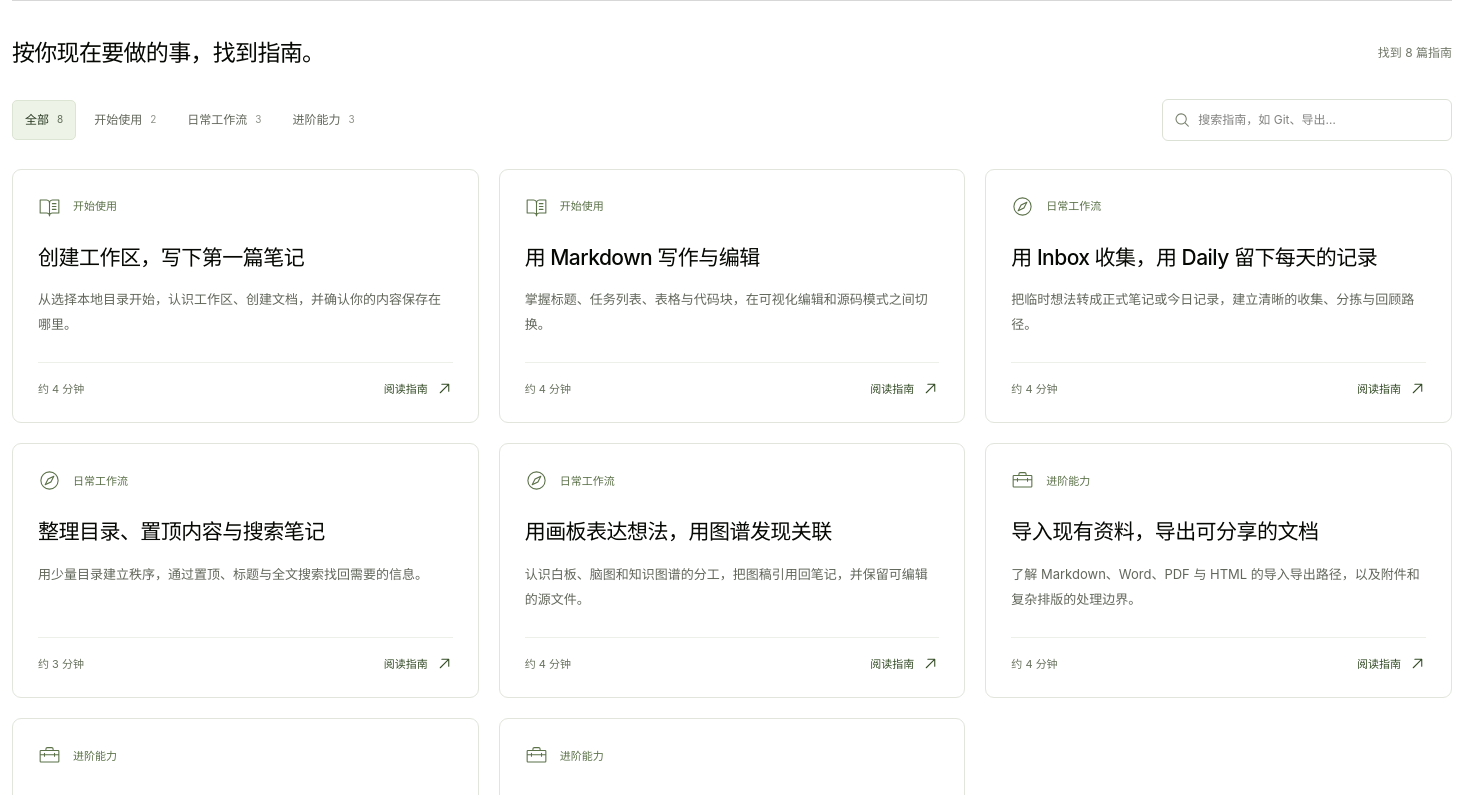
GuideLibrary › filters, reports an empty result and restores the full library
Click the button "进阶能力 3": coordinates (324, 120) 280,100 -> 368,140
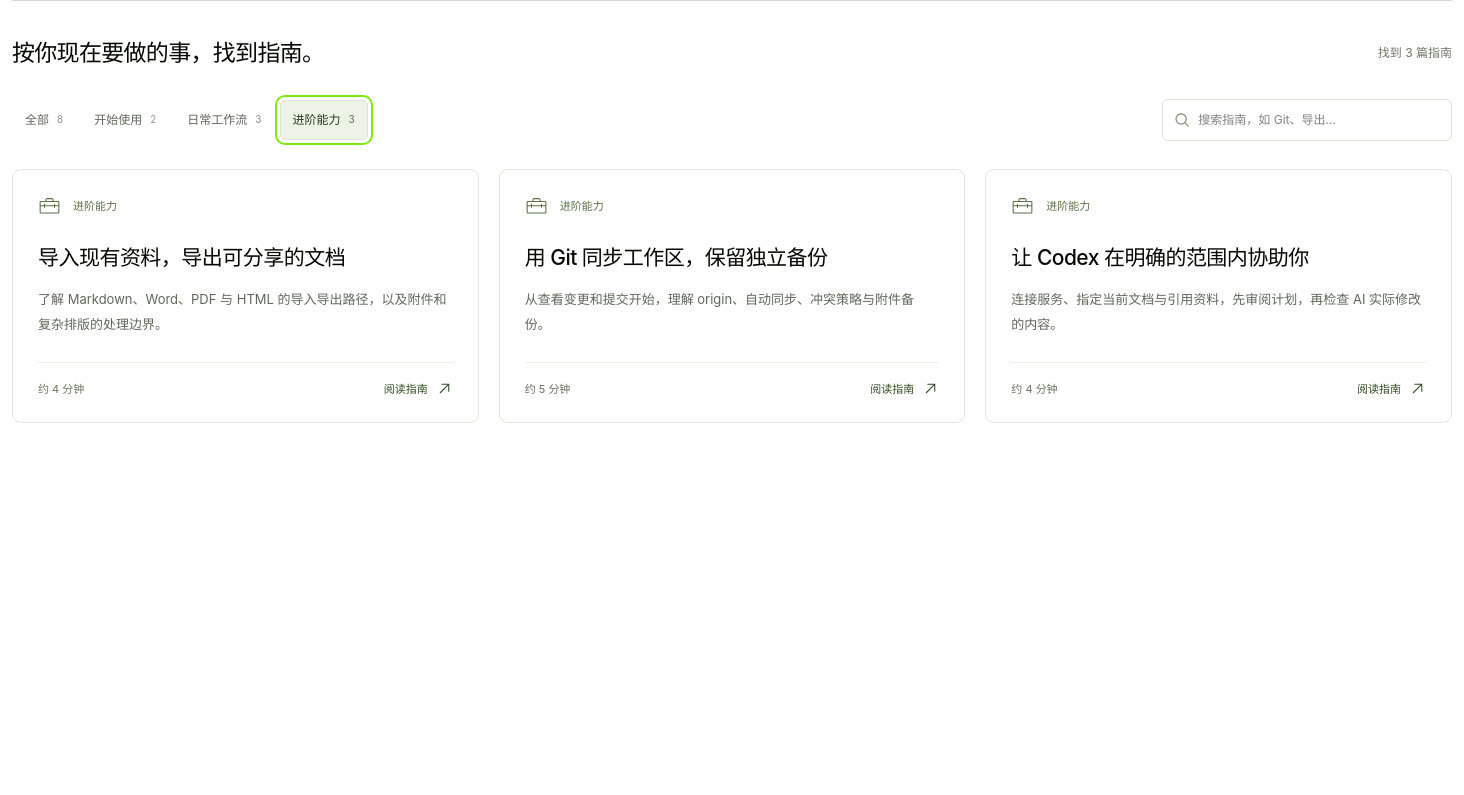
Expected: the message reads "找到 3 篇指南", 1378,44 -> 1452,62
In the search field named "搜索使用指南": coordinates (1319, 120) 1198,108 -> 1440,130, type "Git"
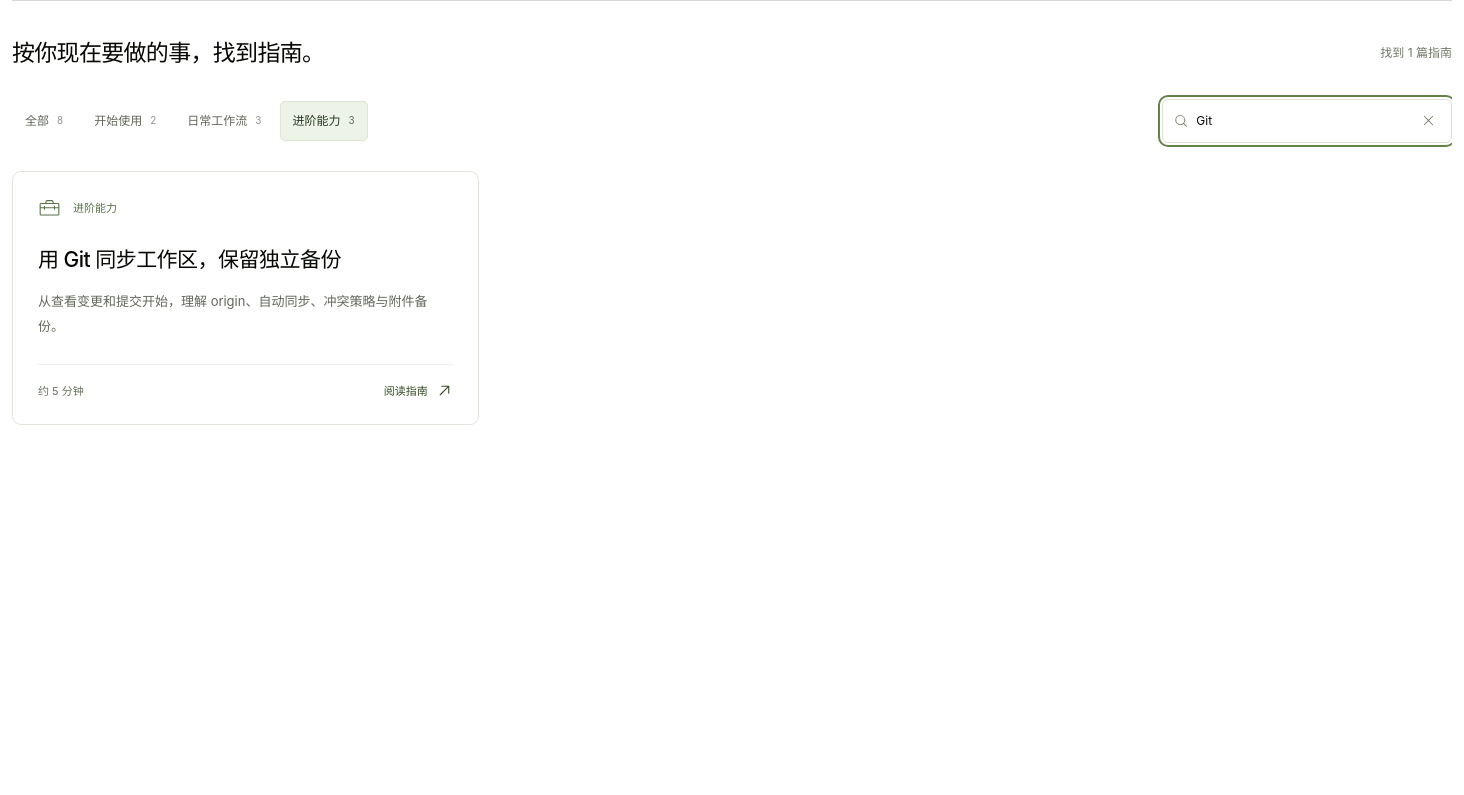
Expected: the link "用 Git 同步工作区，保留独立备份" is shown, 13,172 -> 478,424
Result: the message reads "找到 1 篇指南" at 1380,44 -> 1452,62
Clear the search field named "搜索使用指南": coordinates (1302, 120) 1196,110 -> 1408,132
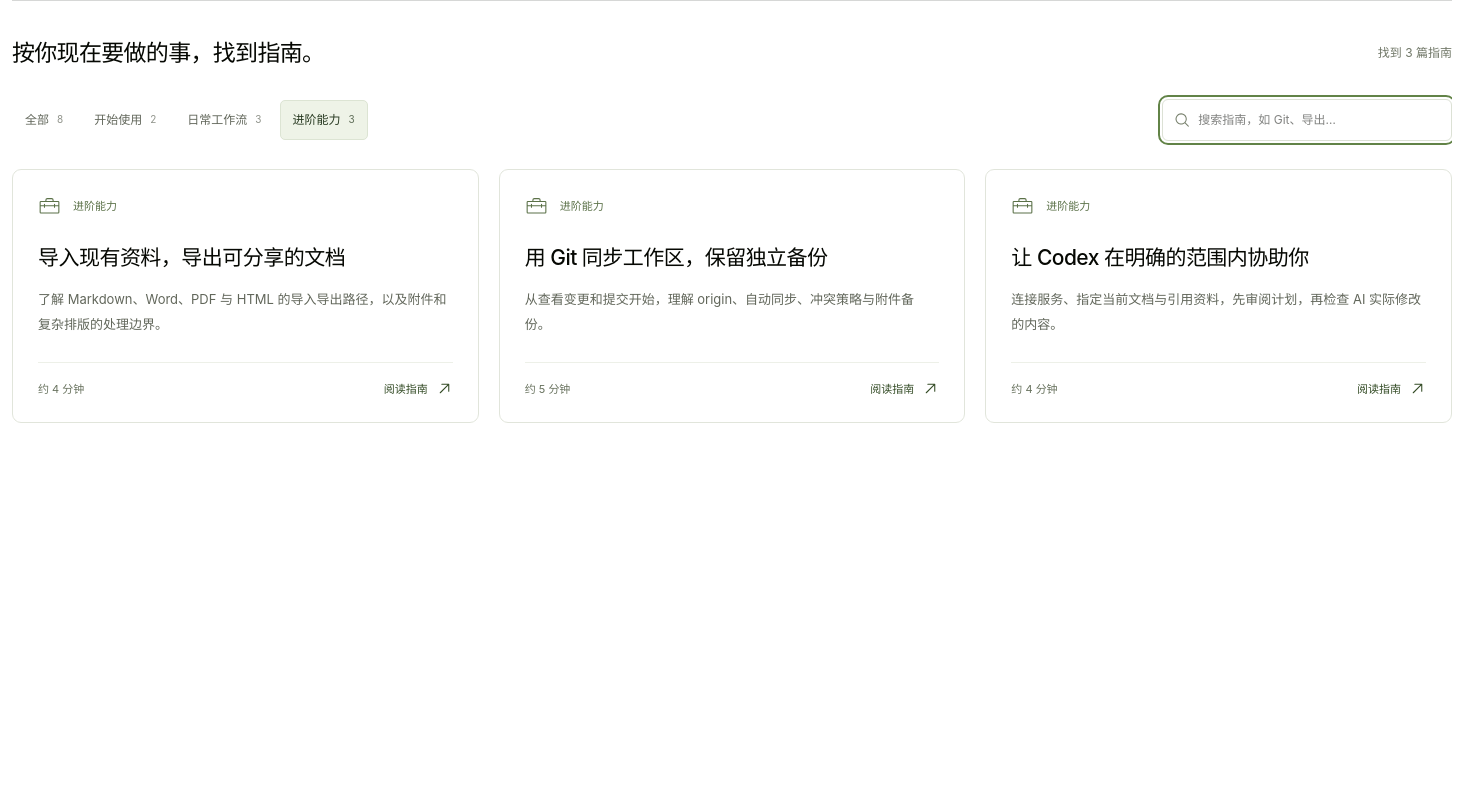
In the search field named "搜索使用指南": coordinates (1319, 120) 1198,108 -> 1440,130, type "不存在的主题"
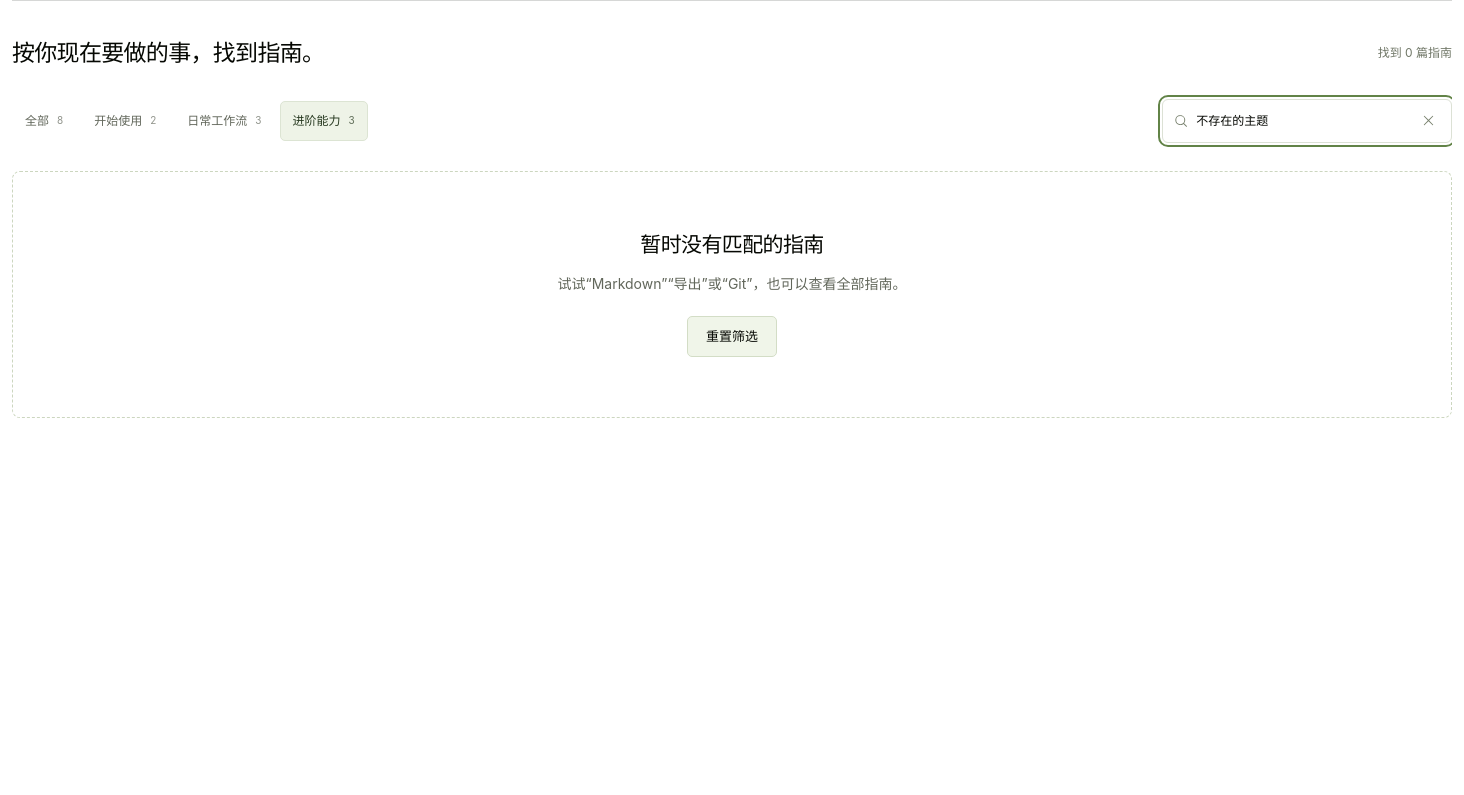
Result: the heading "暂时没有匹配的指南" is shown at 640,232 -> 824,256
Click the button "重置筛选": coordinates (732, 337) 687,316 -> 777,357
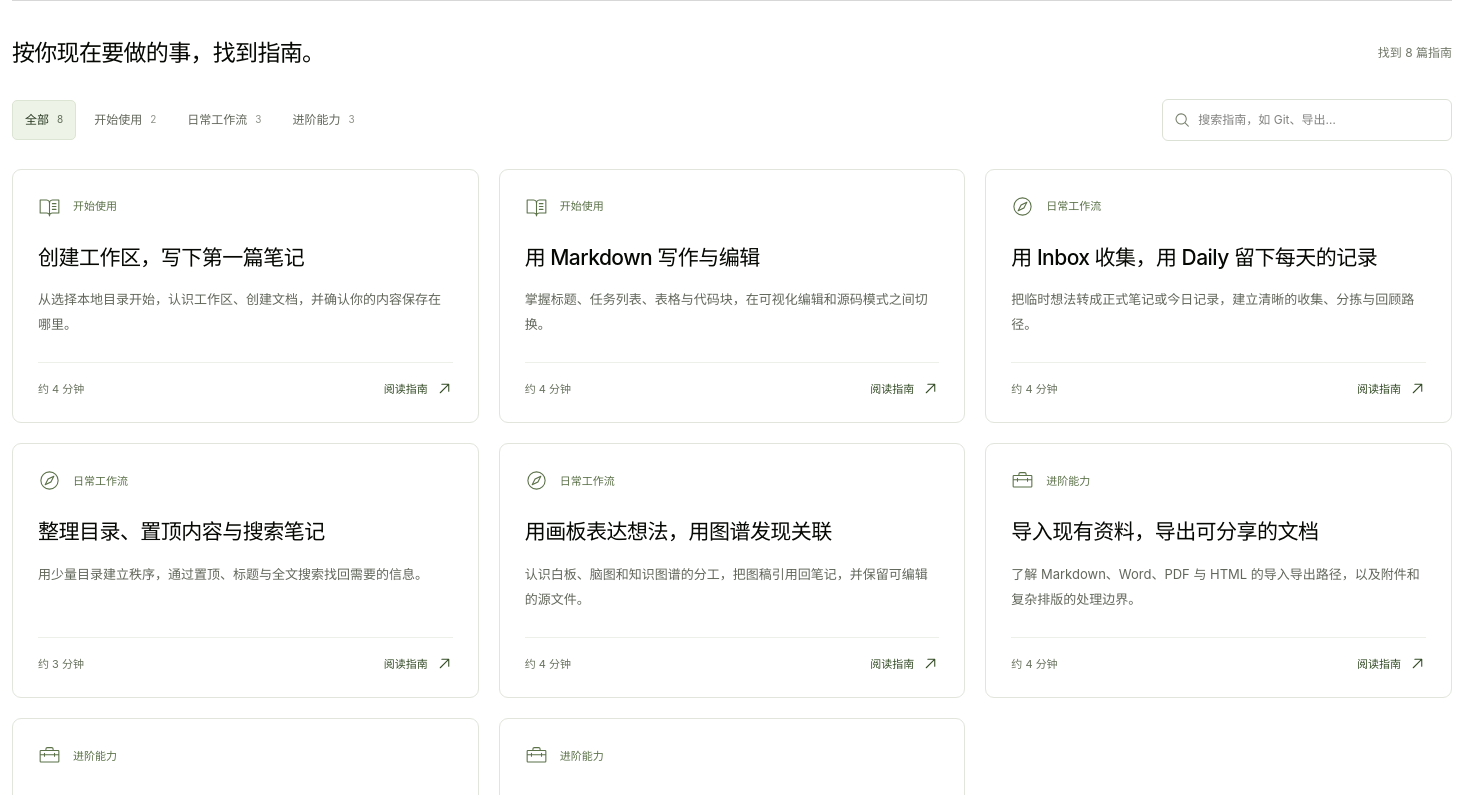
Result: the message reads "找到 8 篇指南" at 1378,44 -> 1452,62
